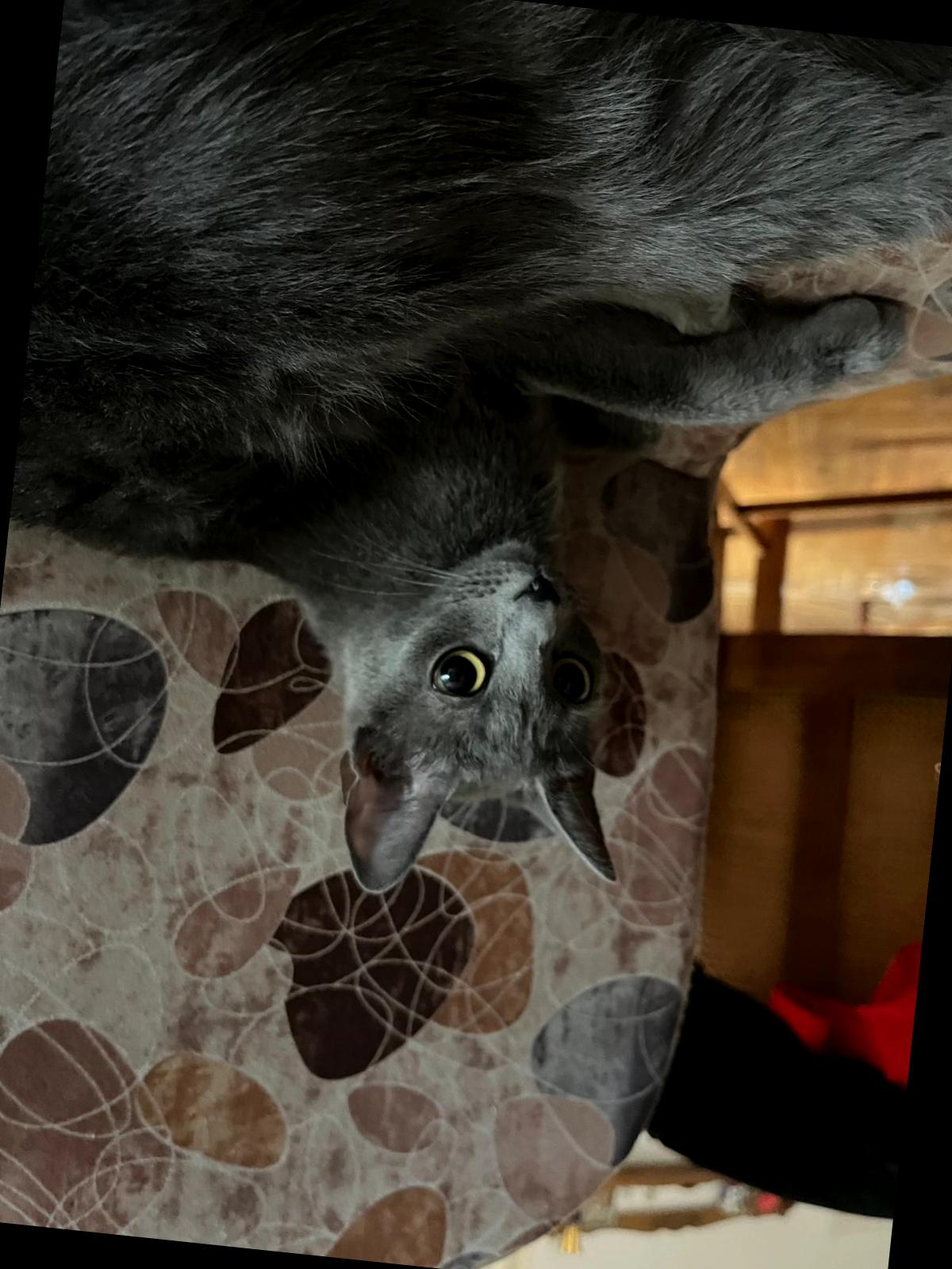macka: (0, 0, 952, 953)
